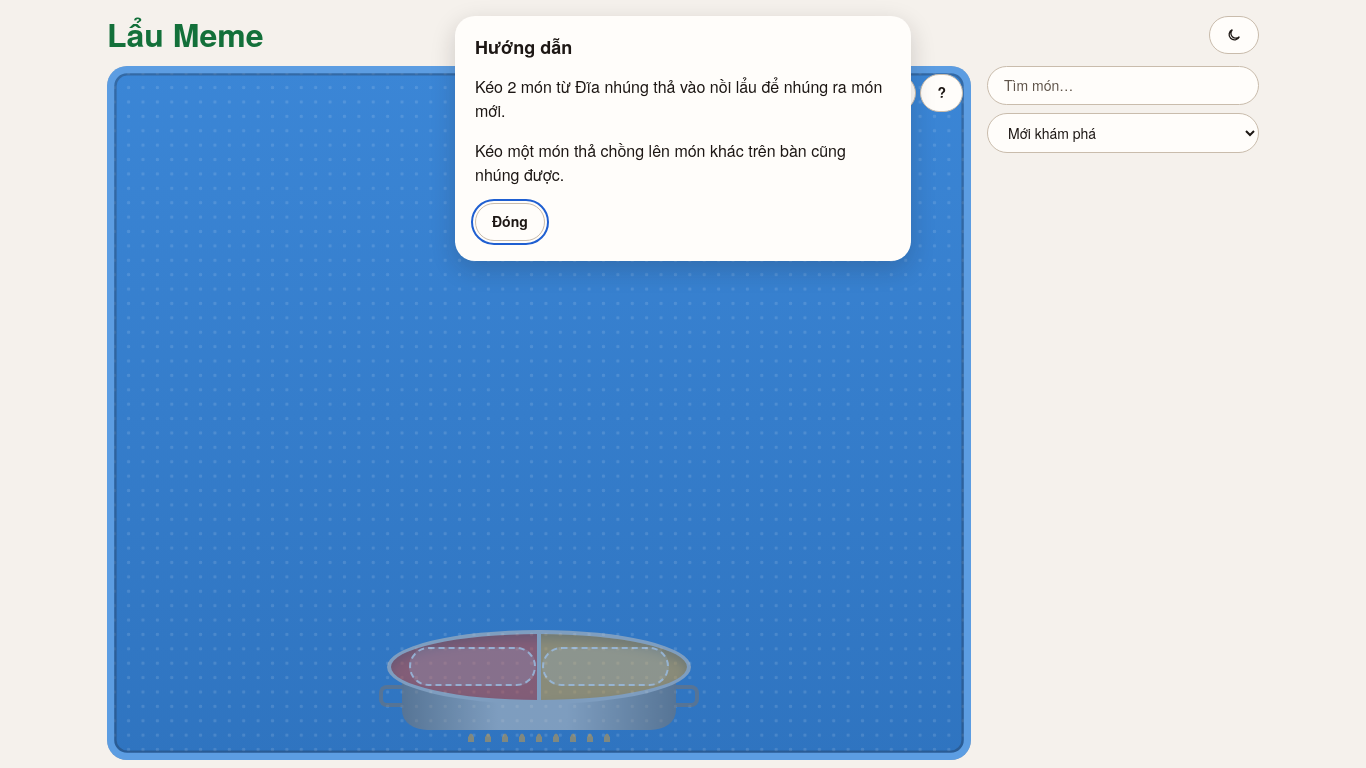
Scenario: AC-GAME-18: nồi lẩu nằm trọn trong màn hình đầu tiên (PC 1366×768)
This screenshot has width=1366, height=768.
Click the button "Đóng" at (510, 222), box [475, 203, 545, 241]
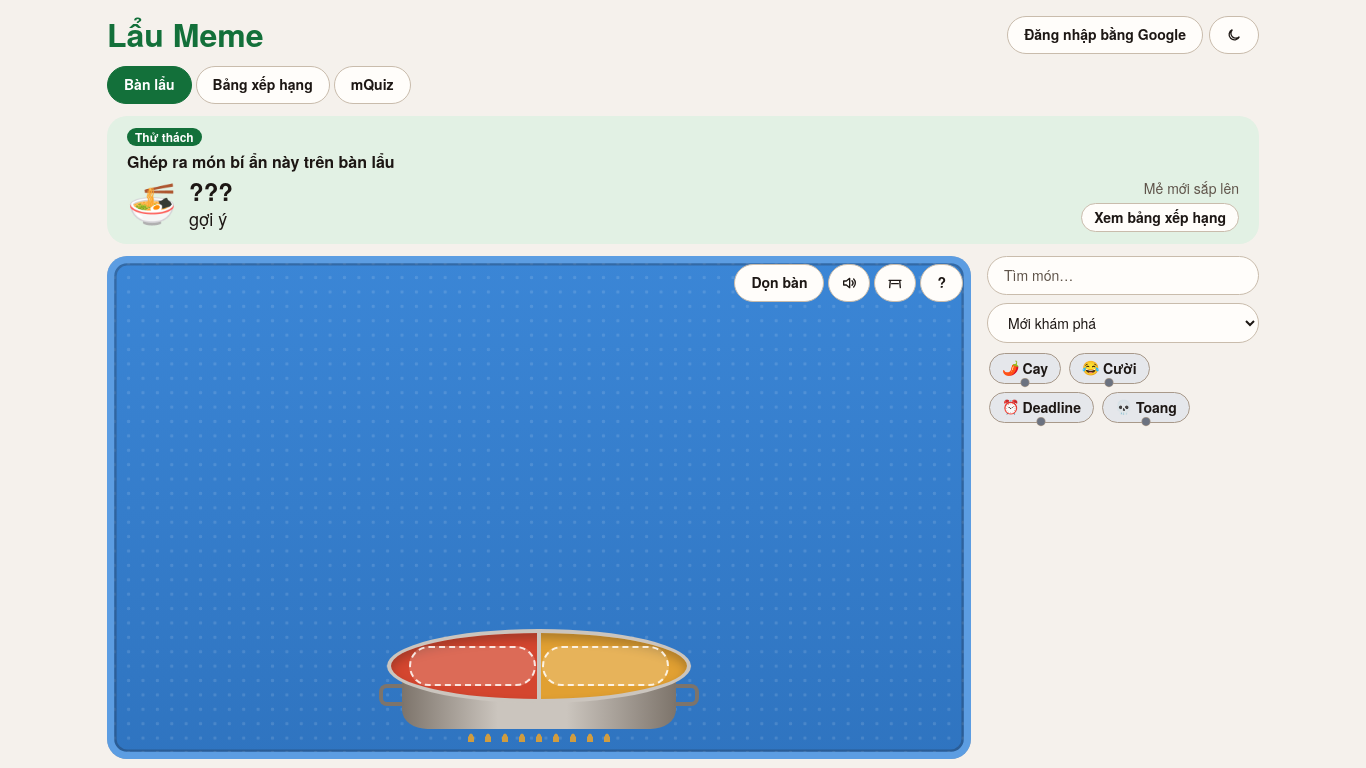
Expected: the element named "Món đặc biệt hôm nay" is shown, [107, 116, 1259, 244]
Expected: the dialog is gone
